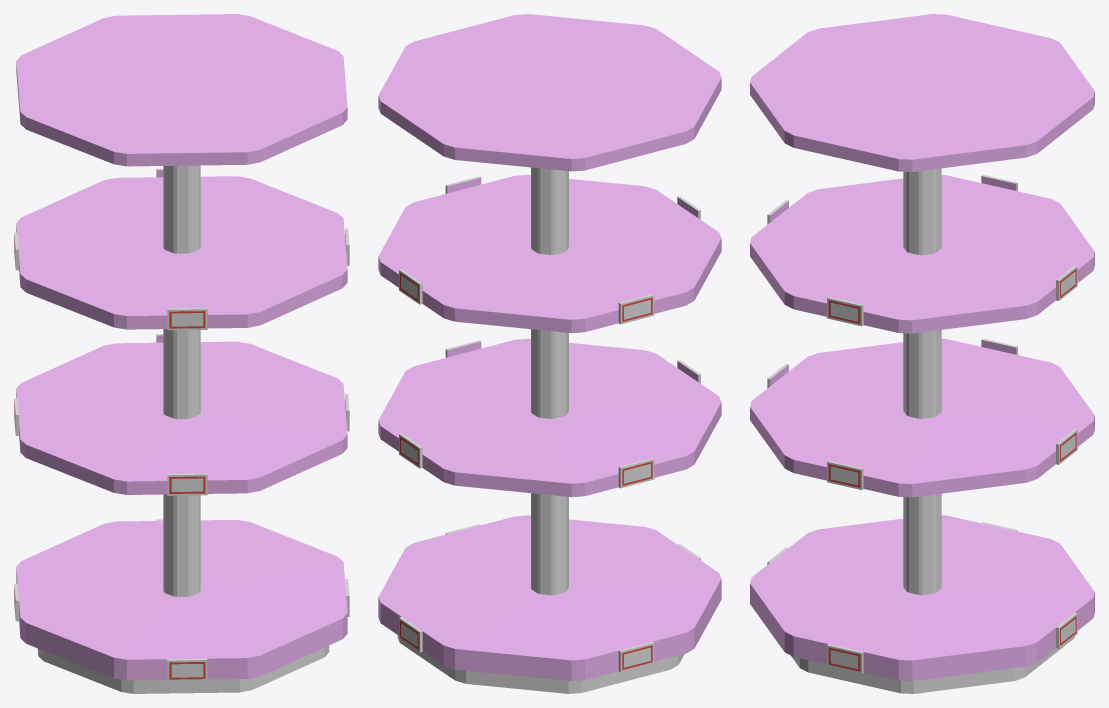
File: RackRound.fbx
3 renders of one model, left to right at view 1: azimuth 30°, elevation 25°; view 2: azimuth 150°, elevation 25°; view 3: azimuth 270°, elevation 25°, orthographic.
Parts seen in each view (by area): view 1: Rack round; view 2: Rack round; view 3: Rack round.
Boxes of the visible parts, x1,y1,x2,y2 form: Rack round: (14, 14, 349, 693); Rack round: (378, 14, 721, 693); Rack round: (750, 14, 1094, 693).
Size of the model in its own units: 0.6364 by 0.6364 by 1.1.
